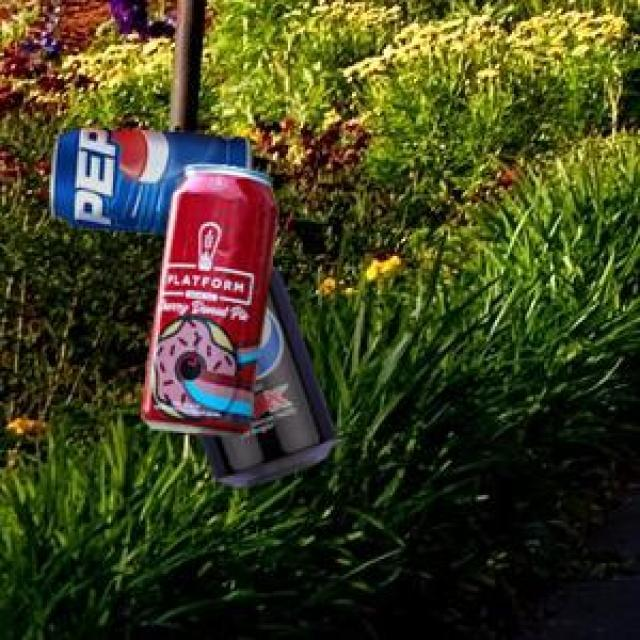Can: (138, 161, 274, 434), (197, 263, 334, 483), (48, 125, 247, 229)
